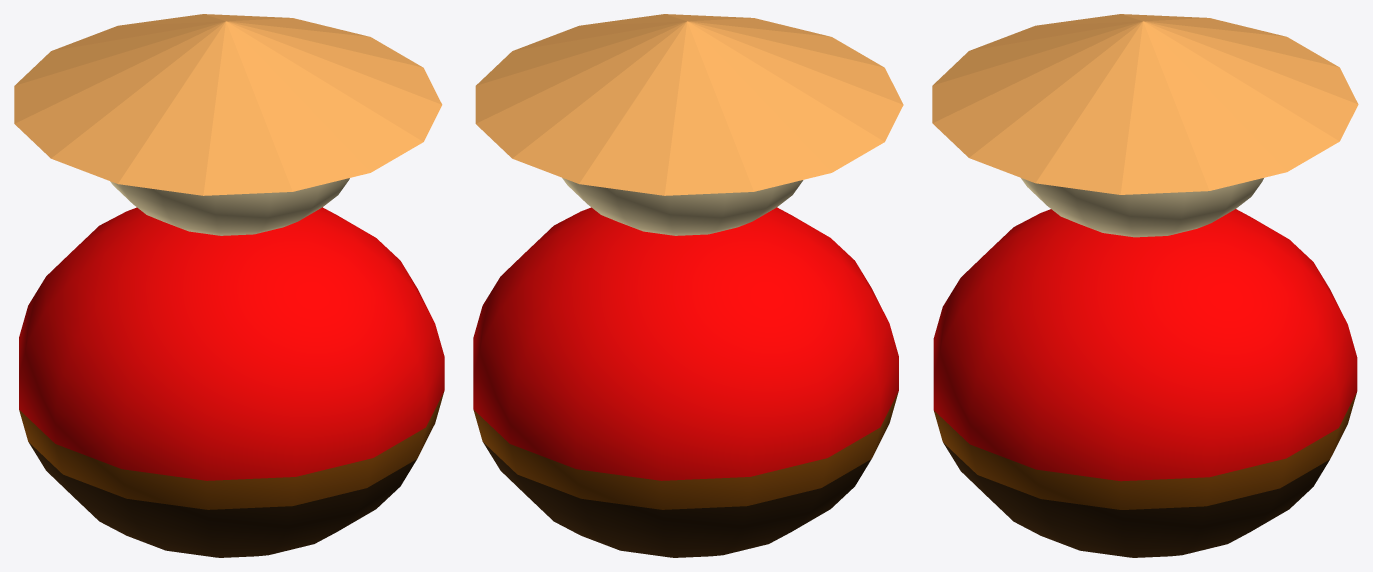
Rendered from china.fbx.
3 views of the same model, side by side, from view 1: azimuth 30°, elevation 25°; view 2: azimuth 150°, elevation 25°; view 3: azimuth 270°, elevation 25° (orthographic).
Visible parts, largest first — view 1: Sphere; view 2: Sphere; view 3: Sphere.
Part boxes in pixels (x1=…): Sphere: x1=14, y1=14, x2=444, y2=557; Sphere: x1=473, y1=14, x2=903, y2=557; Sphere: x1=932, y1=14, x2=1358, y2=557.
Size of the model in its own units: 200 by 262 by 198.
